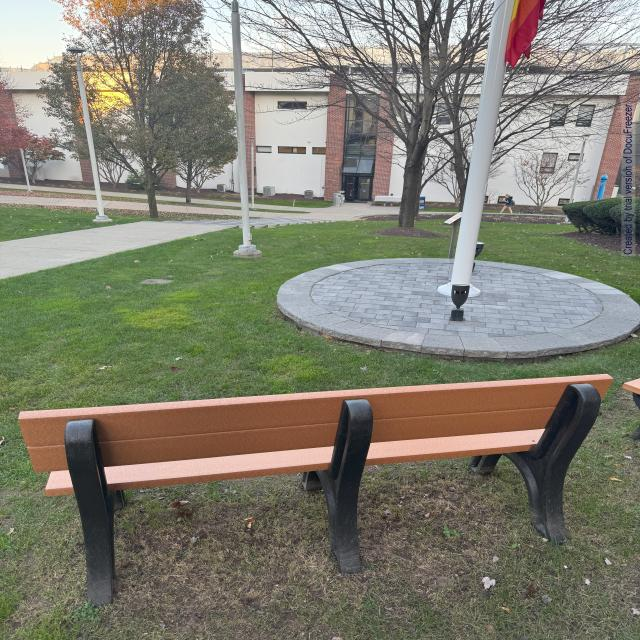chair: (14, 368, 605, 602)
